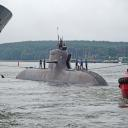submarine: (16, 29, 111, 87)
